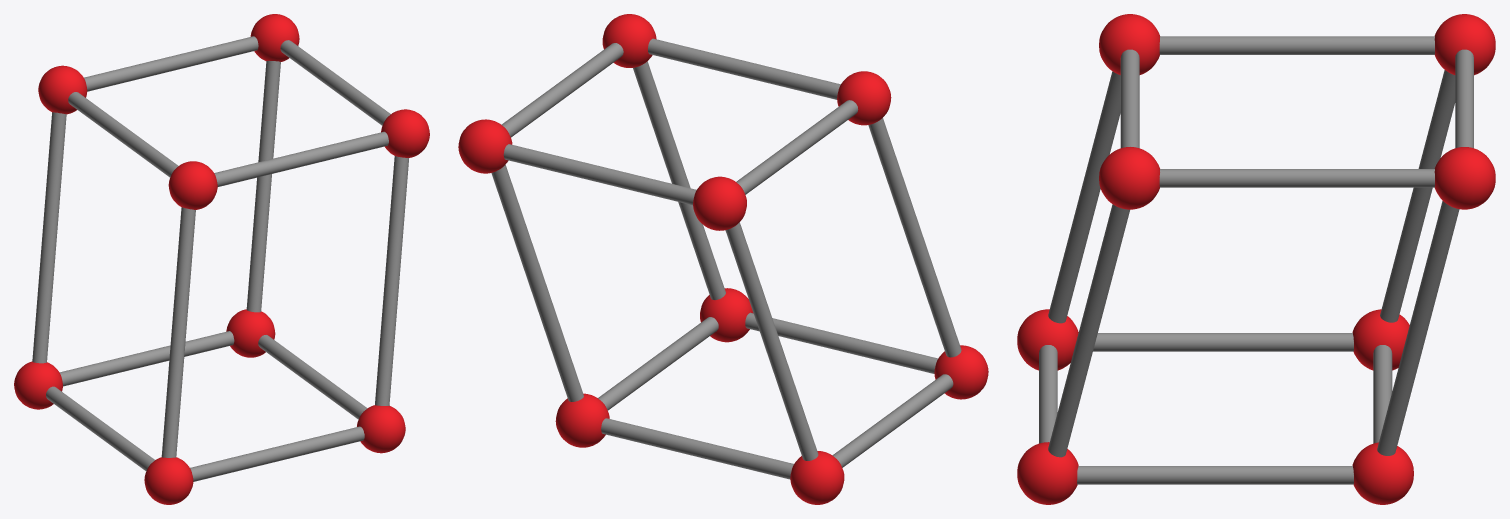
The picture shows the model from 3 angles, left to right: view 1: azimuth 30°, elevation 25°; view 2: azimuth 150°, elevation 25°; view 3: azimuth 270°, elevation 25°; orthographic projection. The views are drawn at different scales.
Parts seen in each view (by area): view 1: Цилиндр_Node (×12), Сферы_Node (×8); view 2: Цилиндр_Node (×12), Сферы_Node (×8); view 3: Цилиндр_Node (×12), Сферы_Node (×8).
Boxes of the visible parts, left/top/right/bottom form: Цилиндр_Node (×12): left=32, top=36, right=408, bottom=481; Сферы_Node (×8): left=14, top=14, right=429, bottom=504; Цилиндр_Node (×12): left=491, top=38, right=961, bottom=479; Сферы_Node (×8): left=458, top=14, right=988, bottom=504; Цилиндр_Node (×12): left=1039, top=36, right=1473, bottom=484; Сферы_Node (×8): left=1017, top=14, right=1495, bottom=504.
Size of the model in its own units: 2.88 by 2.68 by 3.
13 materials, 1 textured.
